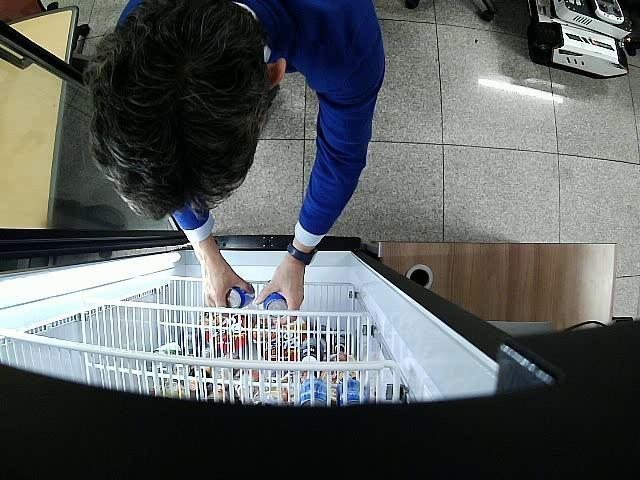13_pocariSweat: (227, 283, 254, 308), (264, 293, 288, 318)
